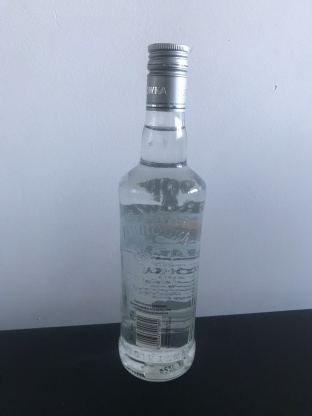nakretka: (144, 40, 190, 114)
